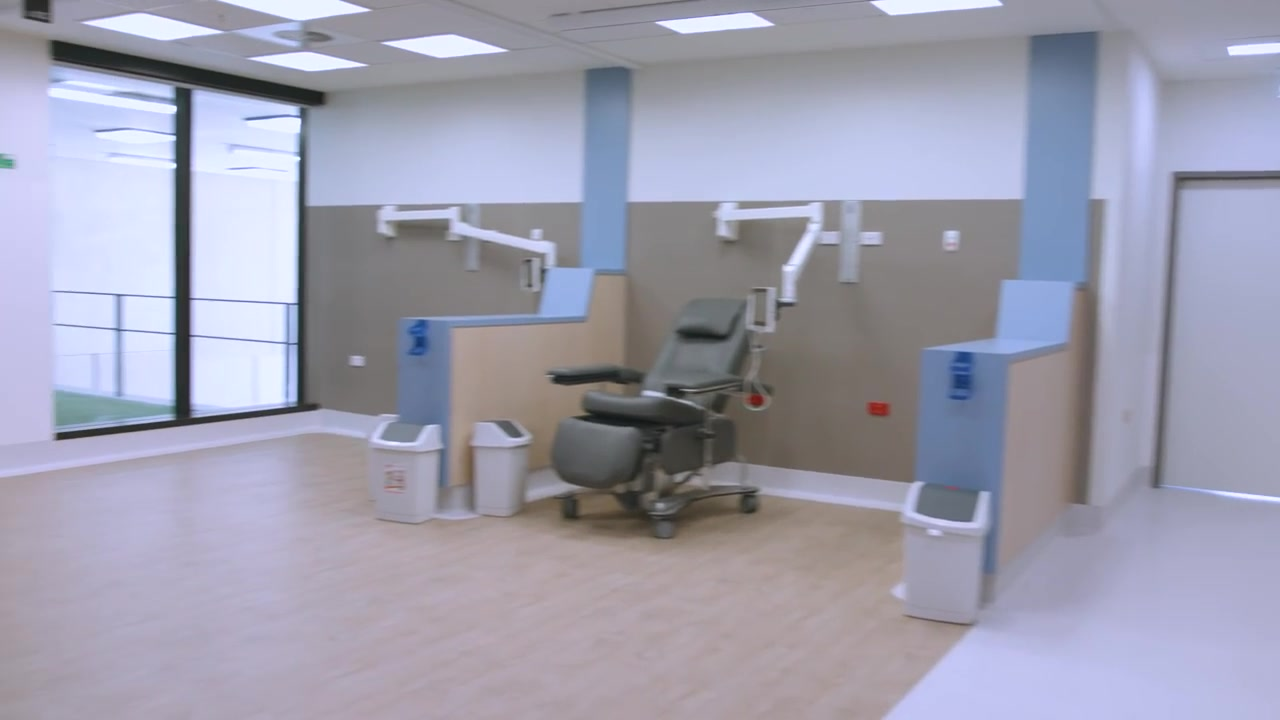sofa: (544, 299, 775, 538)
waste_bin: (891, 478, 997, 625), (368, 413, 444, 525), (467, 418, 534, 517)
